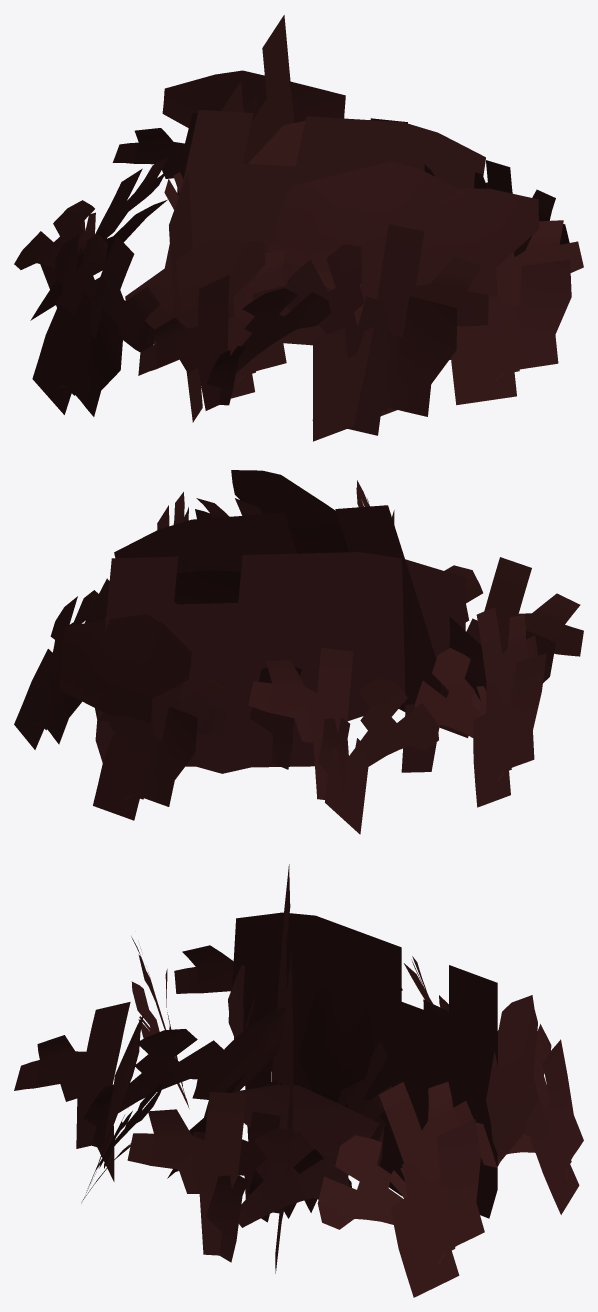
Rendered from SM_ocean_scatterPlant_01_D.fbx.
3 renders of one model, top to bottom at view 1: azimuth 30°, elevation 25°; view 2: azimuth 150°, elevation 25°; view 3: azimuth 270°, elevation 25°, orthographic. The views are drawn at different scales.
Visible parts, largest first — view 1: SM_ocean_scatterPlant_01_D_LOD0; view 2: SM_ocean_scatterPlant_01_D_LOD0; view 3: SM_ocean_scatterPlant_01_D_LOD0.
Boxes of the visible parts, x1,y1,x2,y2 form: SM_ocean_scatterPlant_01_D_LOD0: (14,15,583,441); SM_ocean_scatterPlant_01_D_LOD0: (14,470,583,834); SM_ocean_scatterPlant_01_D_LOD0: (14,864,583,1297).
Size of what is drawn, in the model's own units: 21.71 by 22.68 by 13.3.
